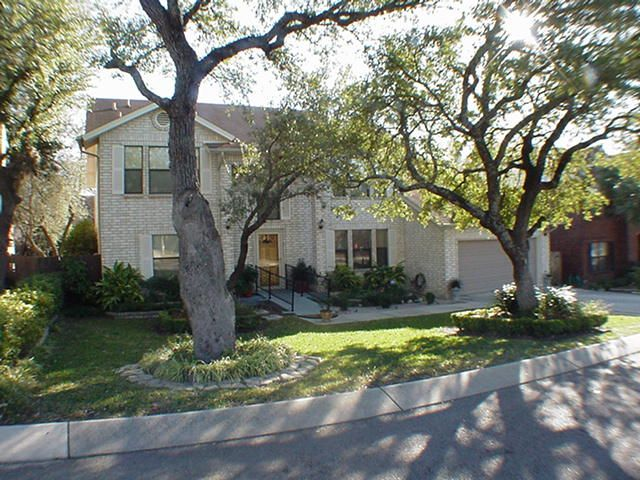tree: (66, 1, 438, 362), (268, 27, 640, 326)
